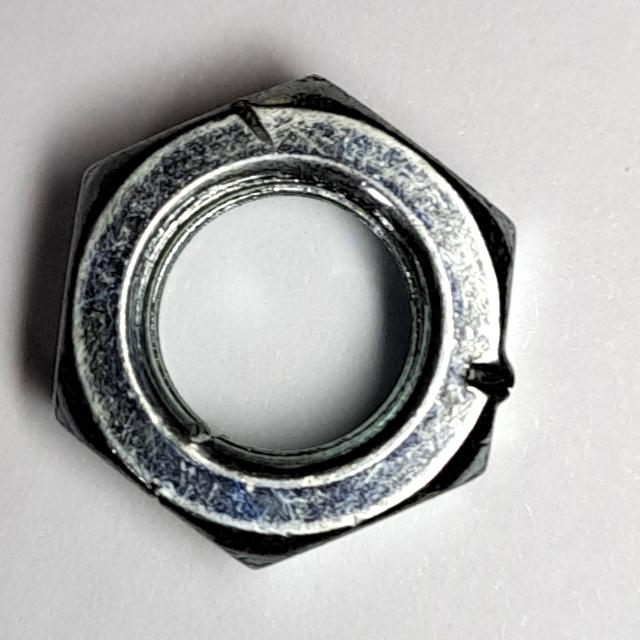Scratches: (46, 64, 530, 581)
